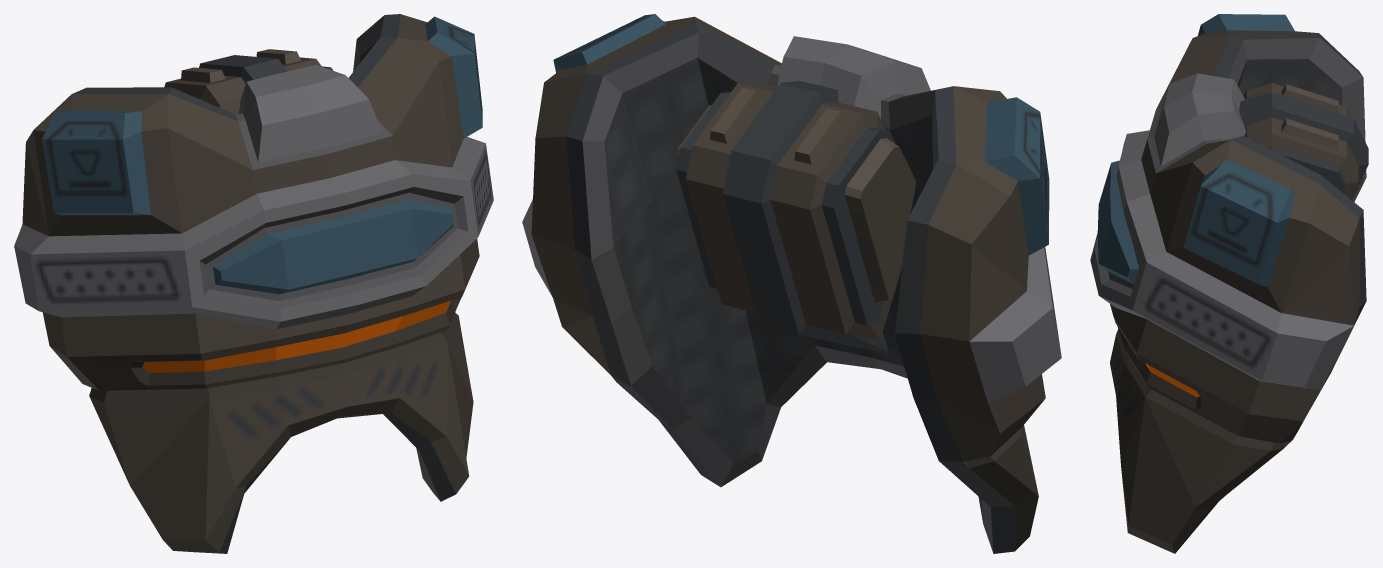
Rendered from SM_Mech_Arm_01_Armor_Shoulder_01.fbx.
3 renders of one model, left to right at view 1: azimuth 30°, elevation 25°; view 2: azimuth 150°, elevation 25°; view 3: azimuth 270°, elevation 25°, orthographic. The views are drawn at different scales.
Visible parts, largest first — view 1: SM_Mech_Arm_01_Armor_Shoulder_01; view 2: SM_Mech_Arm_01_Armor_Shoulder_01; view 3: SM_Mech_Arm_01_Armor_Shoulder_01.
Part boxes in pixels (x1,y1,x2,y2): SM_Mech_Arm_01_Armor_Shoulder_01: [14, 14, 493, 553]; SM_Mech_Arm_01_Armor_Shoulder_01: [522, 14, 1061, 553]; SM_Mech_Arm_01_Armor_Shoulder_01: [1090, 14, 1368, 553].
Size of the model in its own units: 103 by 93.65 by 57.8.
